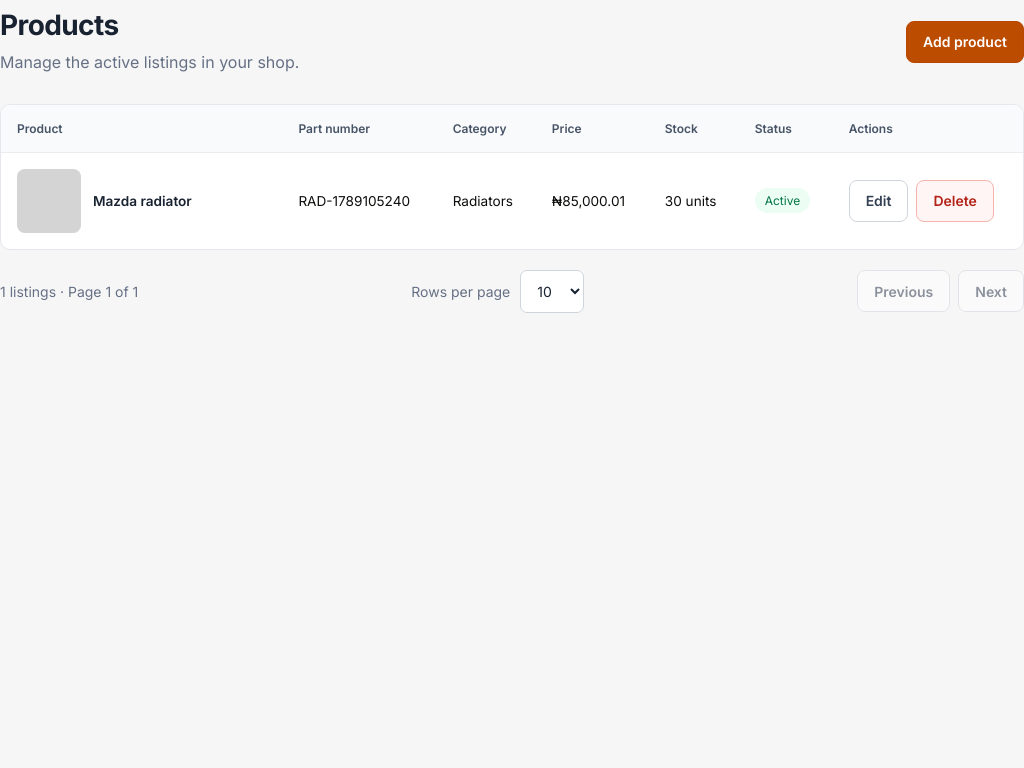
Test case: requires named confirmation, removes the row, then refetches server totals
This screenshot has width=1024, height=768.
Click the button with aria-label "Delete Mazda radiator" at (955, 201), box [916, 180, 994, 222]
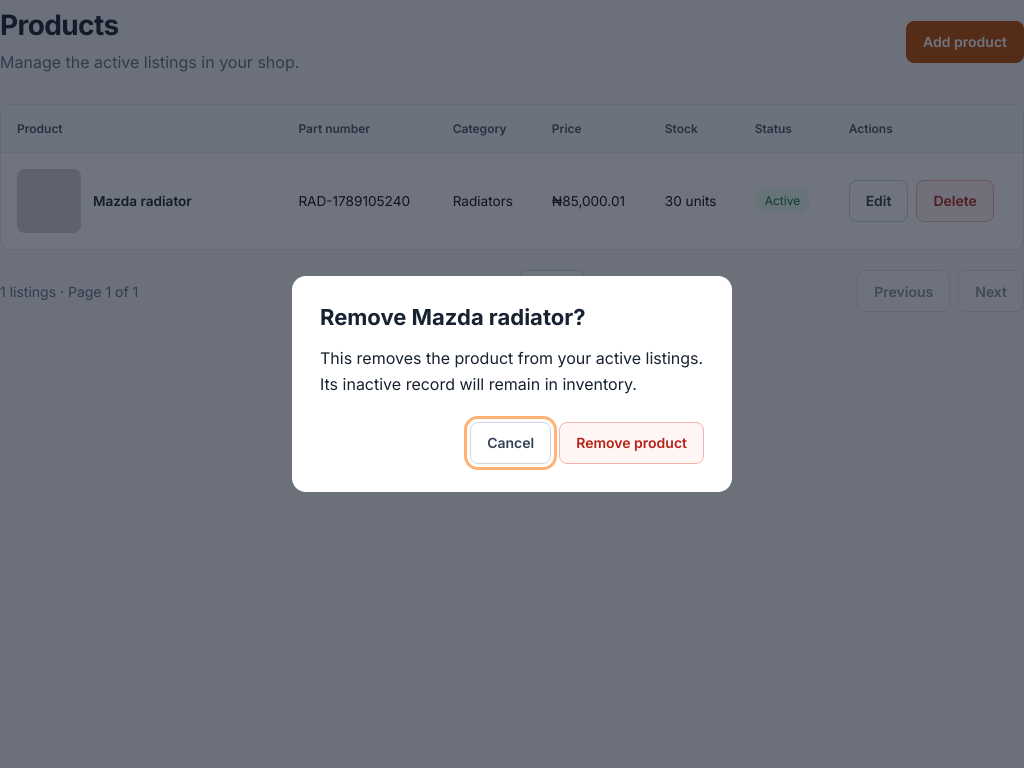
Click the button "Remove product" at (632, 443), box [559, 422, 704, 464]
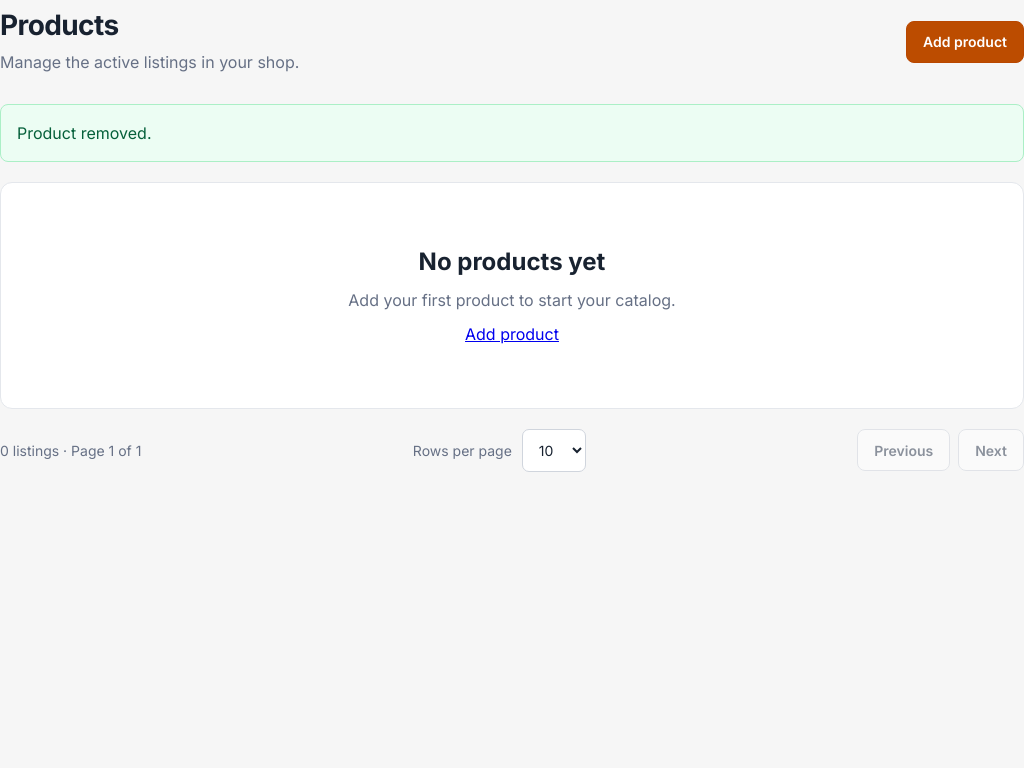
Expected: the text "Product removed." is shown, [0, 104, 1023, 162]
Expected: the heading "No products yet" is shown, [419, 247, 605, 276]
